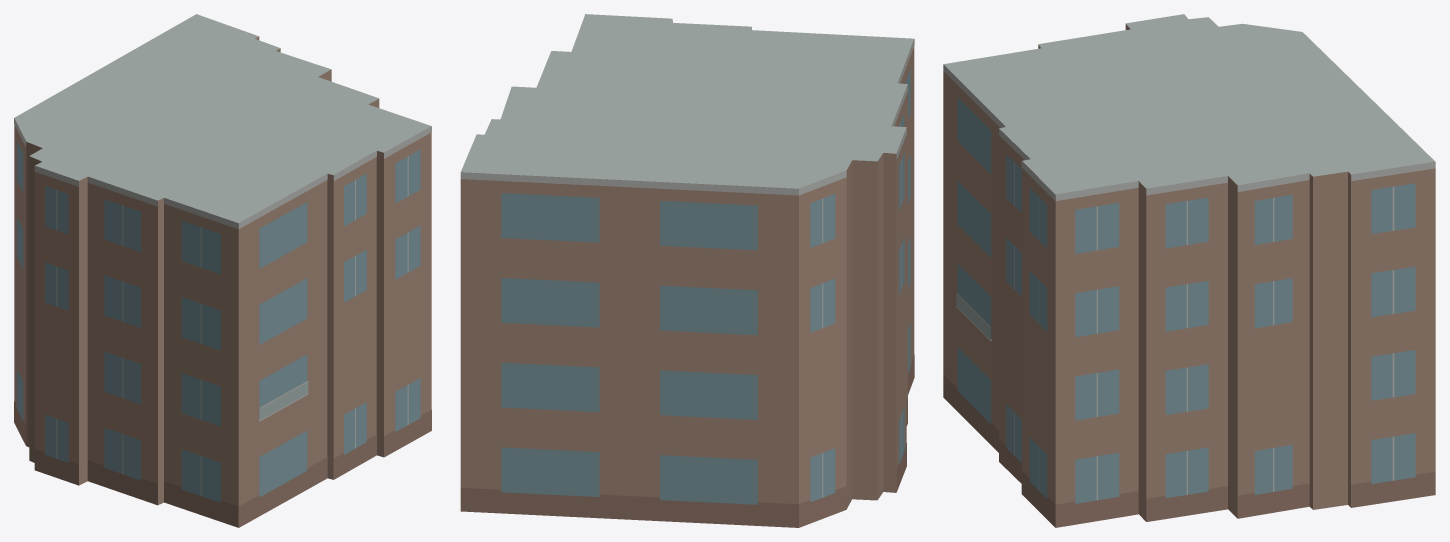
Rendered from survey-upis-32615349.glb.
3 views of the same model, side by side, from view 1: azimuth 30°, elevation 25°; view 2: azimuth 150°, elevation 25°; view 3: azimuth 270°, elevation 25° (orthographic). The views are drawn at different scales.
Visible parts, largest first — view 1: survey-upis-32615349.tmp; view 2: survey-upis-32615349.tmp; view 3: survey-upis-32615349.tmp.
Boxes of the visible parts, box(x1,y1,x2,y2) form: survey-upis-32615349.tmp: box(14, 14, 431, 527); survey-upis-32615349.tmp: box(460, 14, 914, 527); survey-upis-32615349.tmp: box(943, 14, 1435, 527).
Size of the model in its own units: 14.19 by 12.2 by 16.34.
